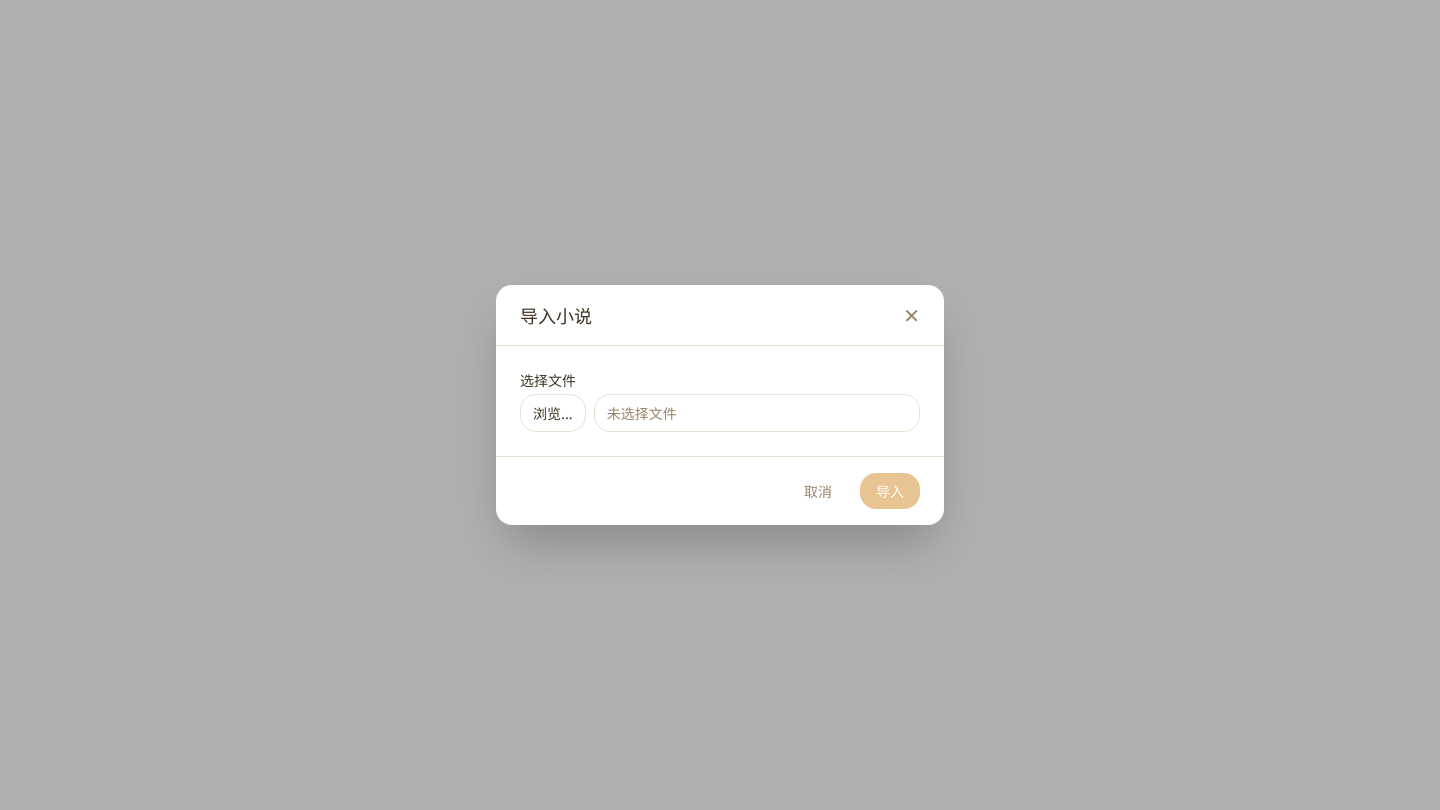
Test: ImportNovelDialog › should show error when import fails
What coordinates should you click on to do the following:
click the button "浏览..."
I would click on:
 (553, 413)
Its box is left=520, top=394, right=586, bottom=432.
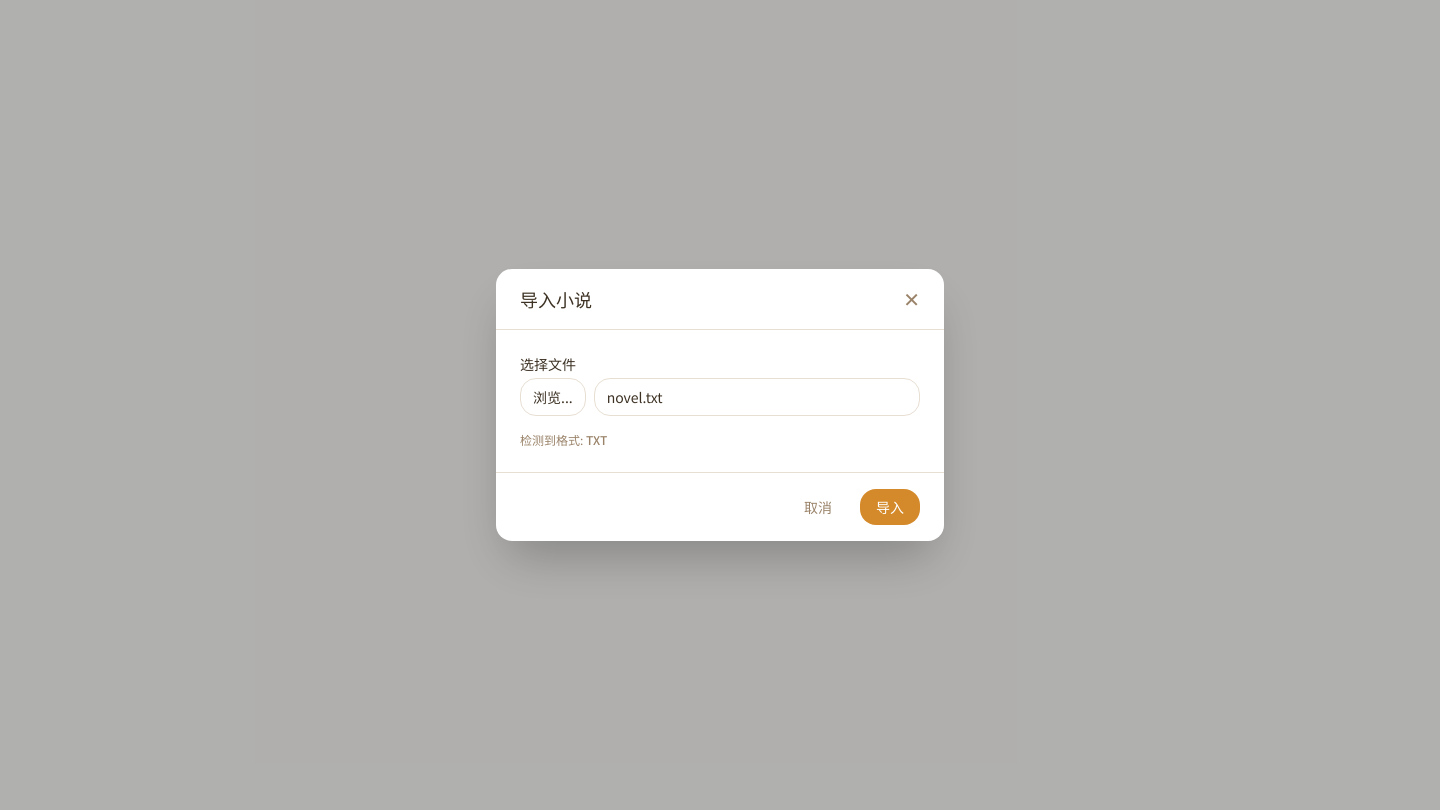
Check: the text "novel.txt" is shown, box left=594, top=378, right=920, bottom=416
What coordinates should you click on to do the following:
click the button "导入"
I would click on:
 (890, 507)
Its box is left=860, top=489, right=920, bottom=525.
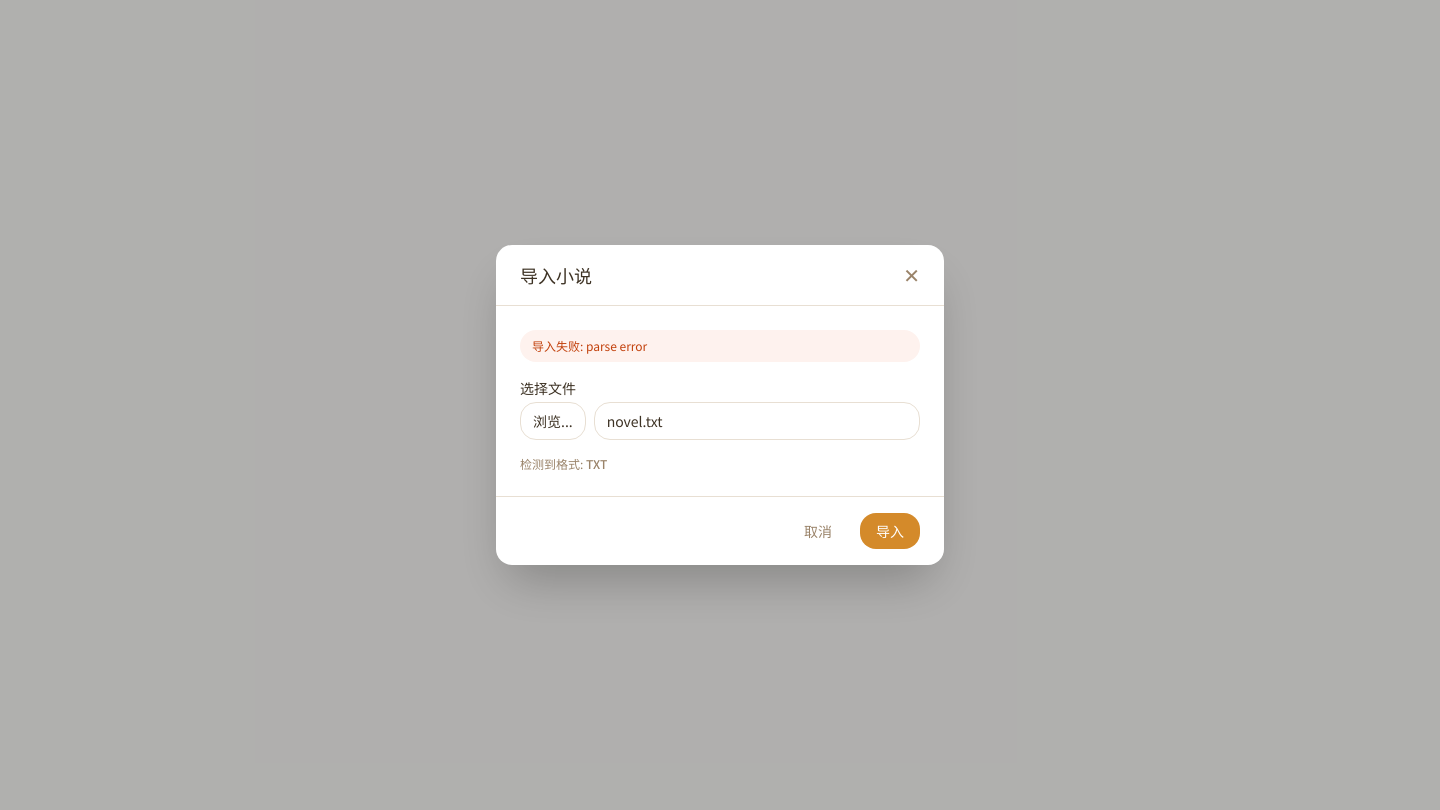
Check: the text "导入失败: parse error" is shown, box left=520, top=330, right=920, bottom=362
